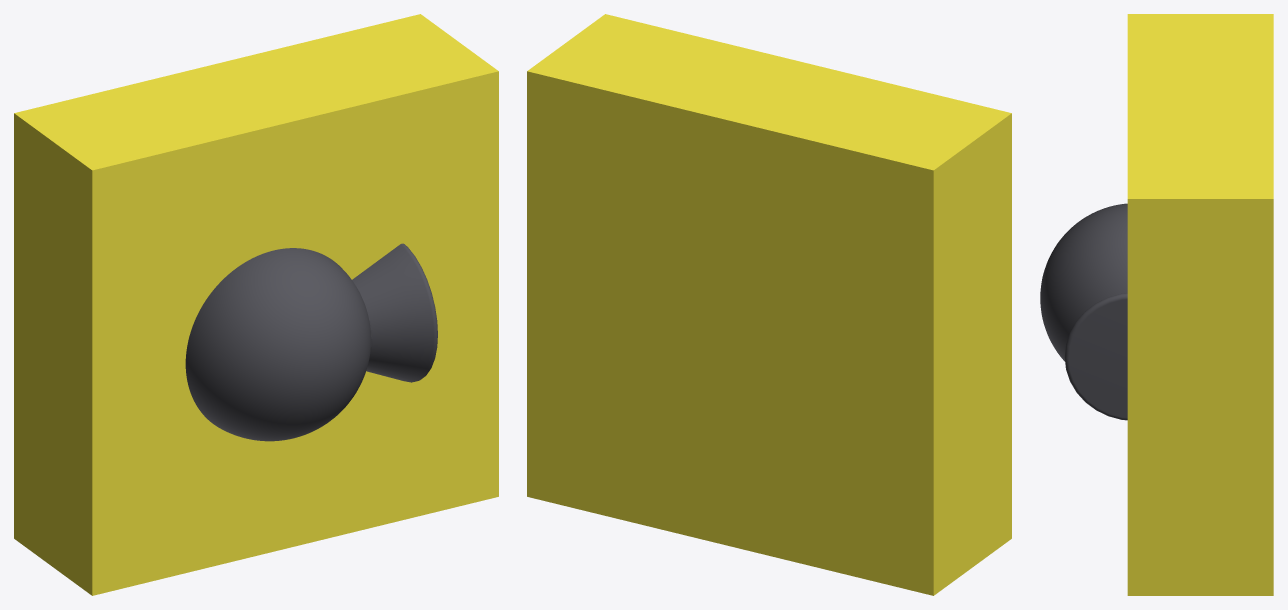
The model's file is cannon.gltf.
3 views of the same model, side by side, from view 1: azimuth 30°, elevation 25°; view 2: azimuth 150°, elevation 25°; view 3: azimuth 270°, elevation 25° (orthographic). The views are drawn at different scales.
Visible parts, largest first — view 1: Cube, Boolean; view 2: Cube; view 3: Cube, Boolean.
Boxes of the visible parts, x1,y1,x2,y2 form: Cube: (14, 14, 498, 595); Boolean: (185, 243, 437, 441); Cube: (527, 14, 1011, 595); Cube: (1127, 14, 1273, 595); Boolean: (1040, 203, 1127, 420).
Size of the model in its own units: 3 by 3 by 1.6.
